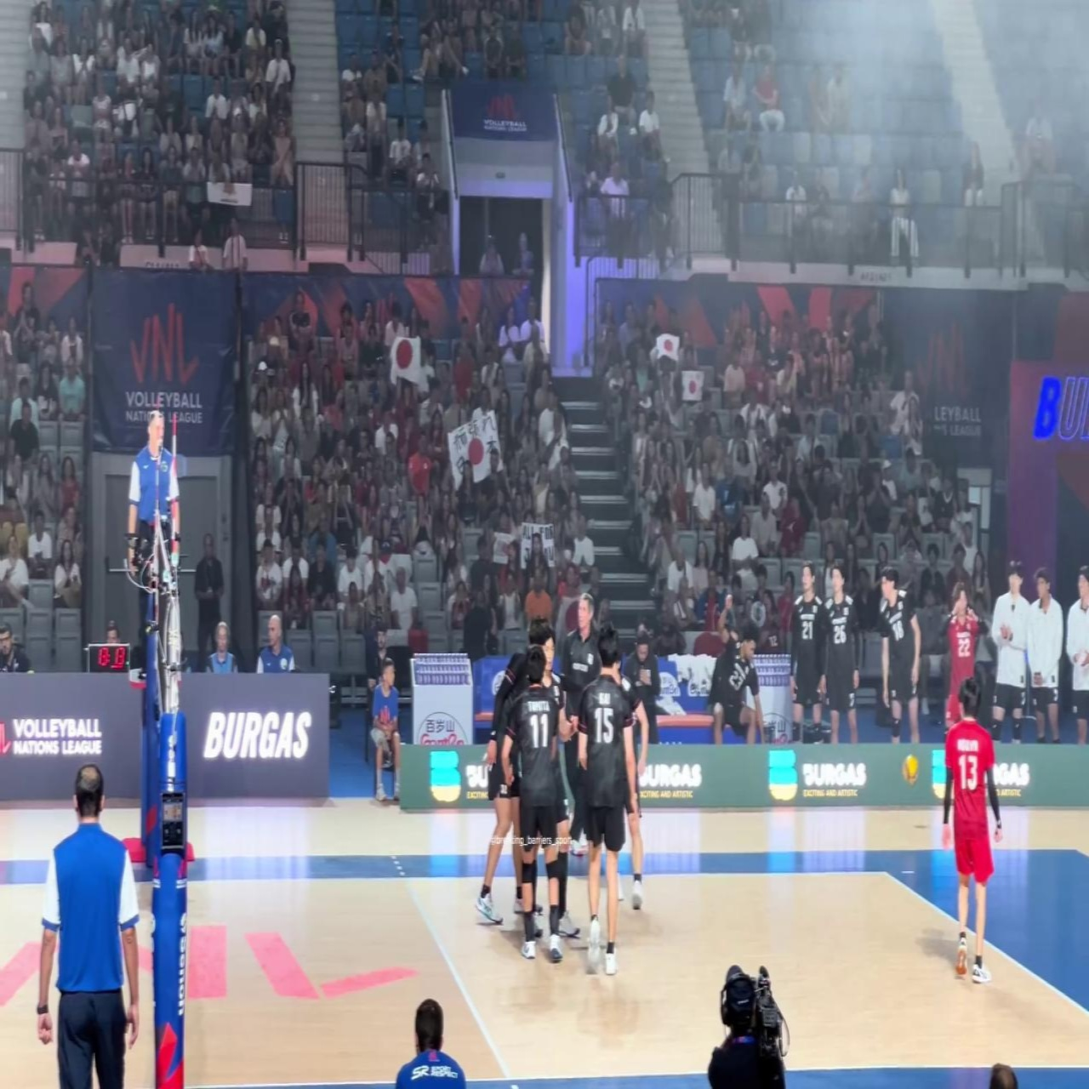ball: (902, 755, 918, 782)
